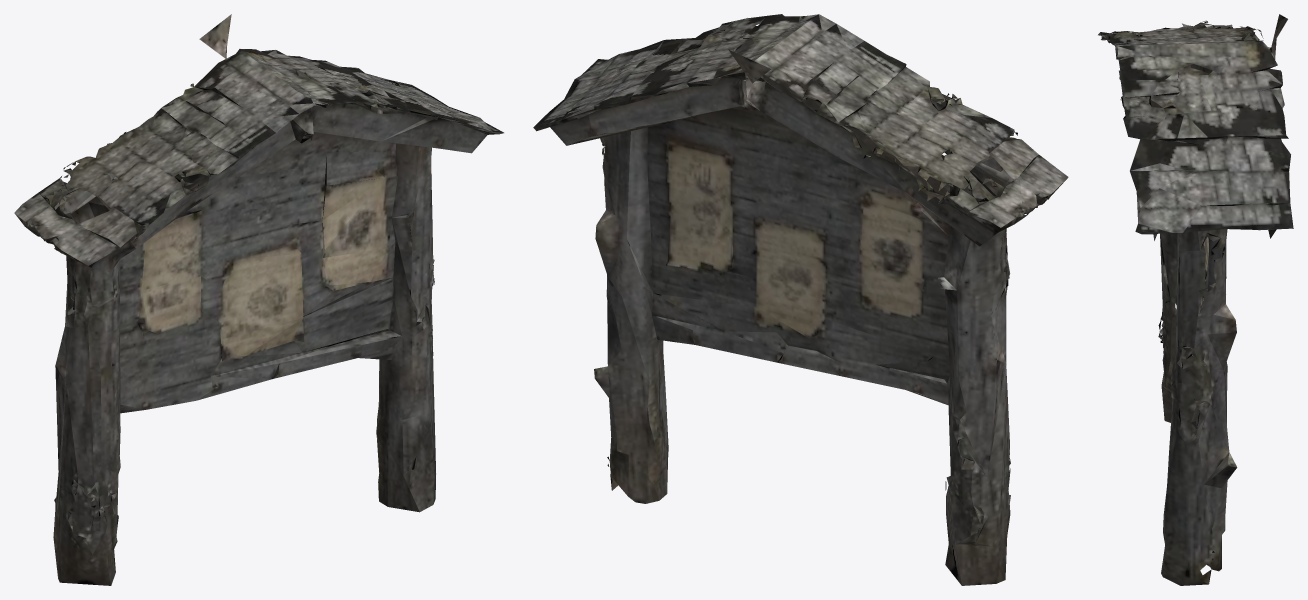
The model's file is contract-board.phone.glb.
3 views of the same model, side by side, from view 1: azimuth 30°, elevation 25°; view 2: azimuth 150°, elevation 25°; view 3: azimuth 270°, elevation 25° (orthographic). The views are drawn at different scales.
Visible parts, largest first — view 1: contract-board-phone; view 2: contract-board-phone; view 3: contract-board-phone.
Boxes of the visible parts, x1,y1,x2,y2 form: contract-board-phone: (14, 14, 503, 585); contract-board-phone: (533, 14, 1068, 585); contract-board-phone: (1098, 14, 1293, 585).
Bounding box in the file's own units: 2.29 × 2.41 × 0.869.
Materials: 1 (1 with a texture image).
